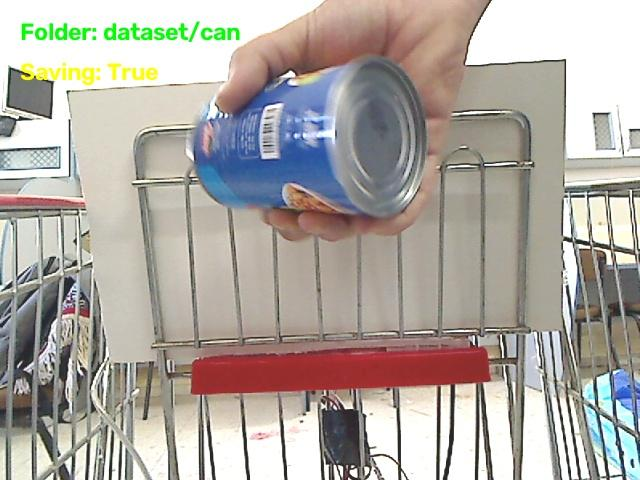can: (192, 56, 426, 217)
